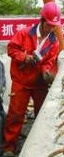boots: (1, 150, 13, 157)
gloves: (41, 70, 53, 85), (23, 54, 35, 66)
hard-hat: (39, 0, 60, 24)
ppe-suit: (0, 21, 21, 52)
